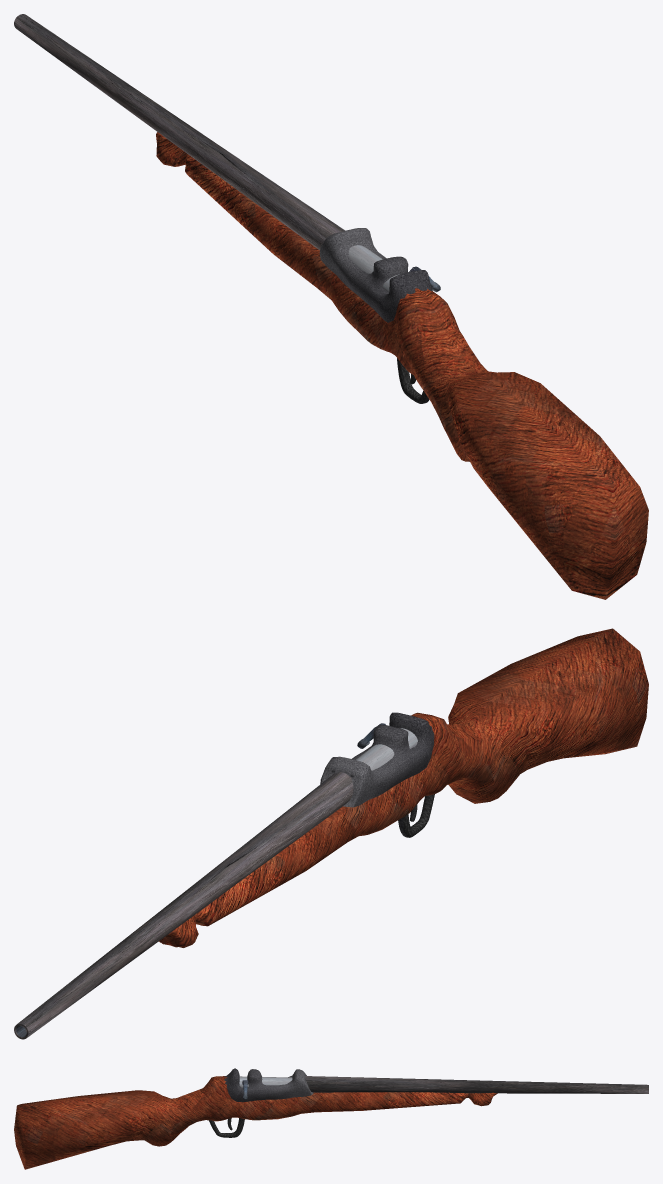
Rendered from RifleFranchi_EMDESENVOLVIMENTO.fbx.
3 views of the same model, one above another, from view 1: azimuth 30°, elevation 25°; view 2: azimuth 150°, elevation 25°; view 3: azimuth 270°, elevation 25° (orthographic). The views are drawn at different scales.
Parts seen in each view (by area): view 1: parte de madeiera, cano, ferrolho; view 2: parte de madeiera, cano, ferrolho, parte de madeiera.001; view 3: parte de madeiera, cano, ferrolho, parte de madeiera.001.
Part boxes in pixels (box(x1,y1,x2,y2)): parte de madeiera: box(156, 132, 648, 599); cano: box(14, 14, 440, 293); ferrolho: box(319, 228, 432, 322); parte de madeiera: box(159, 628, 648, 947); cano: box(14, 723, 417, 1039); ferrolho: box(320, 712, 434, 807); parte de madeiera.001: box(398, 794, 434, 837); parte de madeiera: box(14, 1076, 497, 1169); cano: box(239, 1076, 648, 1099); ferrolho: box(224, 1068, 313, 1102); parte de madeiera.001: box(209, 1118, 244, 1137).
Size of the model in its own units: 48.01 by 78.7 by 463.
Materials: 5 (5 with a texture image).
